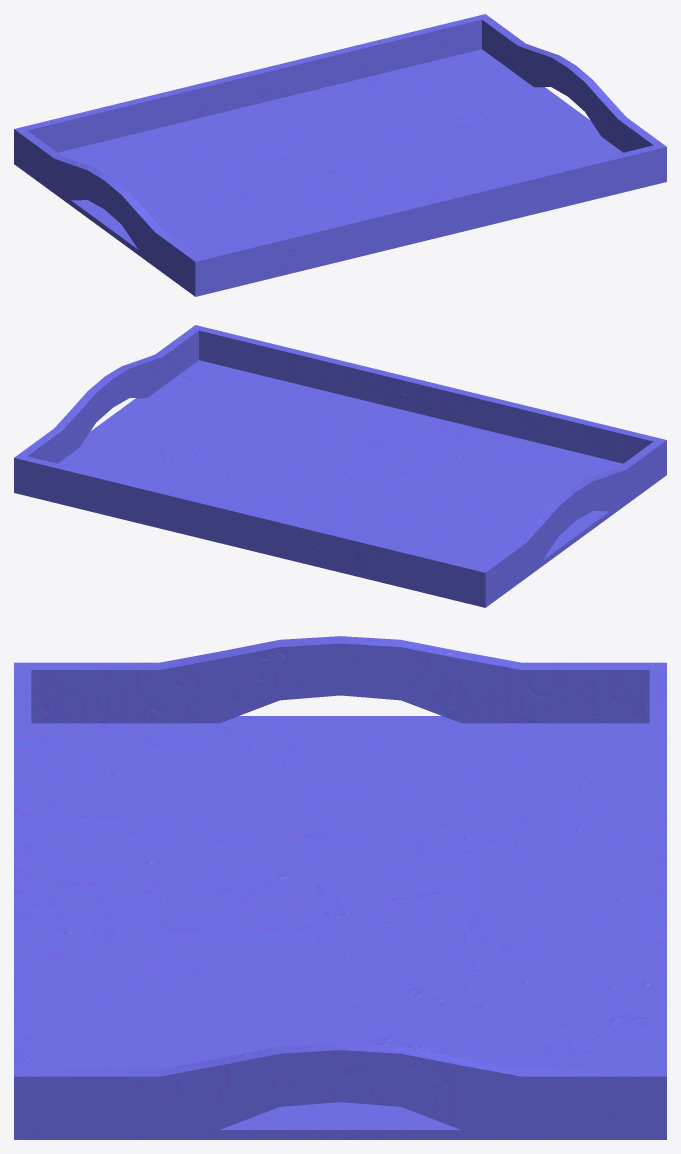
The model's file is Wooden_tray.fbx.
3 renders of one model, top to bottom at view 1: azimuth 30°, elevation 25°; view 2: azimuth 150°, elevation 25°; view 3: azimuth 270°, elevation 25°, orthographic. The views are drawn at different scales.
Parts seen in each view (by area): view 1: Wooden_tray; view 2: Wooden_tray; view 3: Wooden_tray.
Part boxes in pixels (left/top/right/bottom): Wooden_tray: left=14, top=14, right=666, bottom=296; Wooden_tray: left=14, top=325, right=666, bottom=607; Wooden_tray: left=14, top=636, right=666, bottom=1139.
Size of the model in its own units: 45 by 4.55 by 30.
